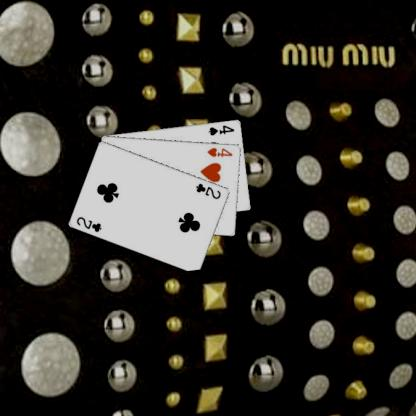2C: (74, 214, 103, 234), (193, 181, 222, 200)
4H: (205, 144, 234, 158)
4S: (206, 122, 236, 136)
